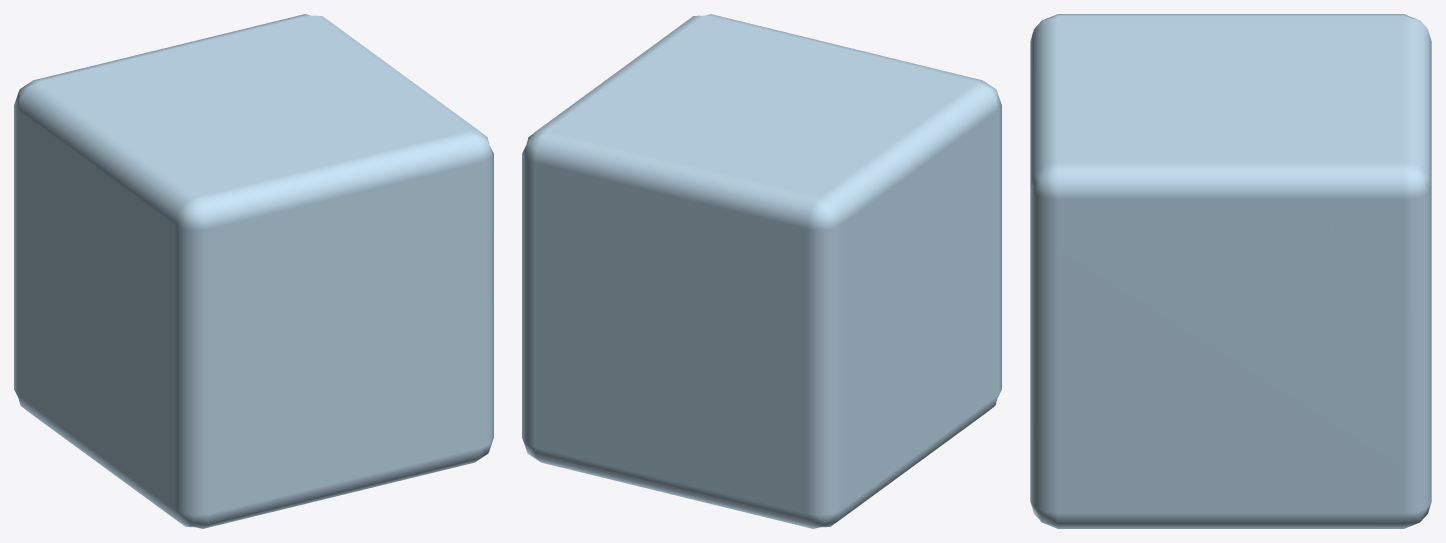
3 views of the same model, side by side, from view 1: azimuth 30°, elevation 25°; view 2: azimuth 150°, elevation 25°; view 3: azimuth 270°, elevation 25° (orthographic). The views are drawn at different scales.
Visible parts, largest first — view 1: R4B_Cube; view 2: R4B_Cube; view 3: R4B_Cube.
Boxes of the visible parts, x1=… form: R4B_Cube: x1=14, y1=14, x2=493, y2=528; R4B_Cube: x1=522, y1=14, x2=1001, y2=528; R4B_Cube: x1=1030, y1=14, x2=1431, y2=528.
Size of the model in its own units: 0.52 by 0.52 by 0.52.
